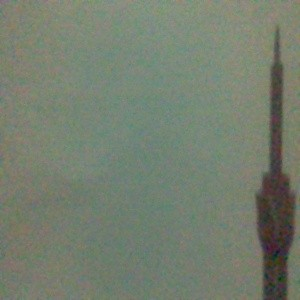solder: (253, 26, 297, 300)
